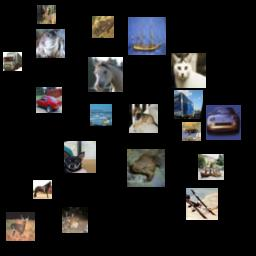airplane: (186, 188, 218, 220)
automobile: (206, 105, 241, 140), (36, 87, 62, 113)
cat: (171, 53, 206, 88)
deer: (6, 212, 35, 241), (62, 207, 88, 233), (90, 104, 112, 126), (182, 122, 201, 141), (37, 5, 56, 24)
dog: (64, 141, 96, 173), (129, 104, 158, 133)
frog: (127, 149, 165, 187), (36, 29, 65, 58), (92, 16, 114, 38)
ship: (128, 17, 166, 55), (198, 154, 224, 180)
truck: (174, 90, 203, 119), (3, 52, 22, 71)
